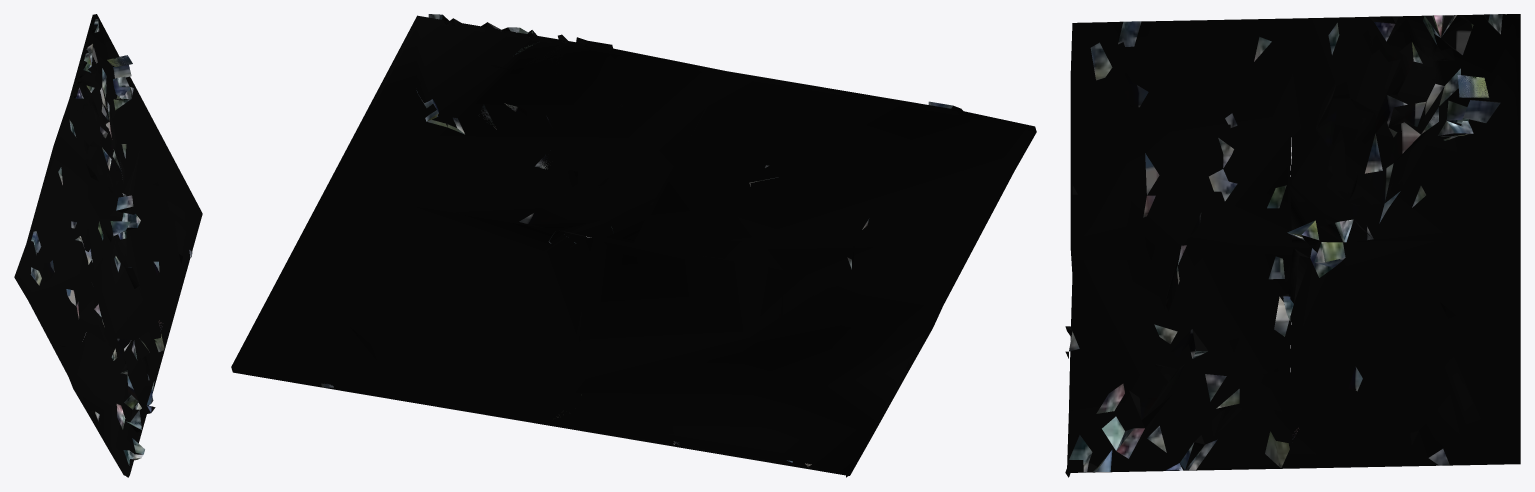
The picture shows the model from 3 angles, left to right: view 1: azimuth 30°, elevation 25°; view 2: azimuth 150°, elevation 25°; view 3: azimuth 270°, elevation 25°; orthographic projection. The views are drawn at different scales.
Parts seen in each view (by area): view 1: node_304362727043635_mesh0; view 2: node_304362727043635_mesh0; view 3: node_304362727043635_mesh0.
Part boxes in pixels (x1,y1,x2,y2): node_304362727043635_mesh0: [14, 14, 202, 477]; node_304362727043635_mesh0: [231, 14, 1036, 477]; node_304362727043635_mesh0: [1065, 14, 1520, 477].
Size of the model in its own units: 1175 by 1172 by 883.
Materials: 1 (1 with a texture image).
